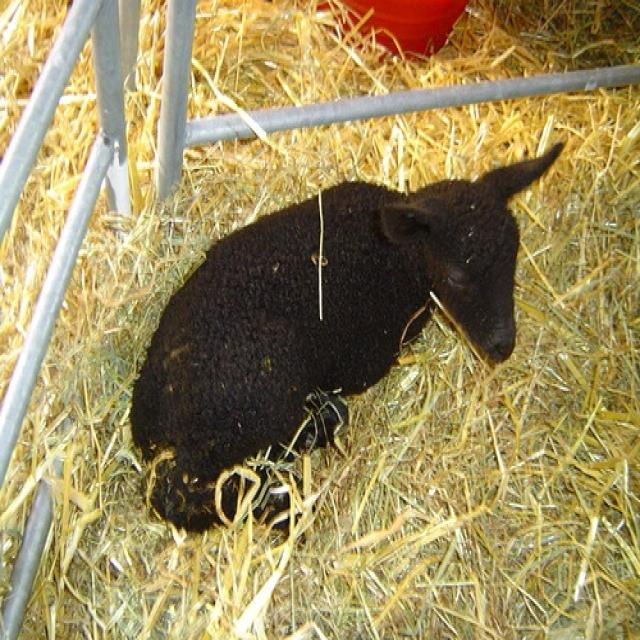sheep: (127, 142, 563, 532)
